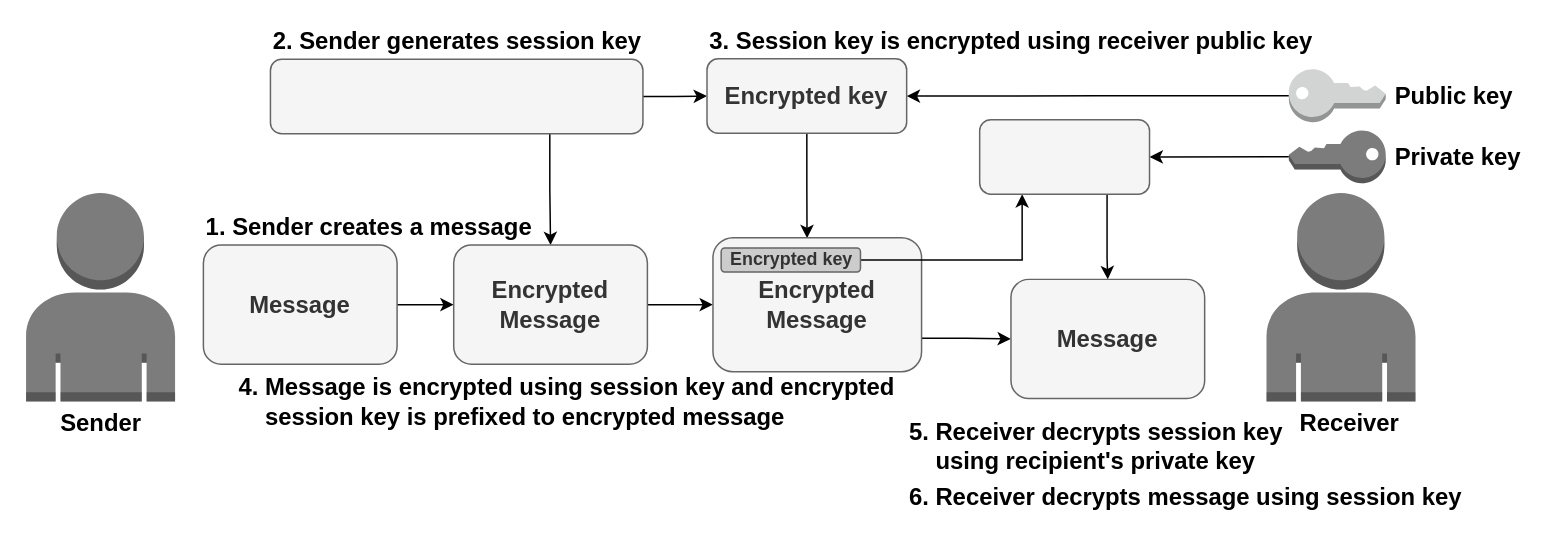
The diagram is 1566 pixels wide and 536 high, and some of its shapes have lost their labels. The centre of each missing label's shape, as x and y in pixels:
"Session key" goes at pixel 1064 156.
"Session key (random number)" goes at pixel 456 96.
